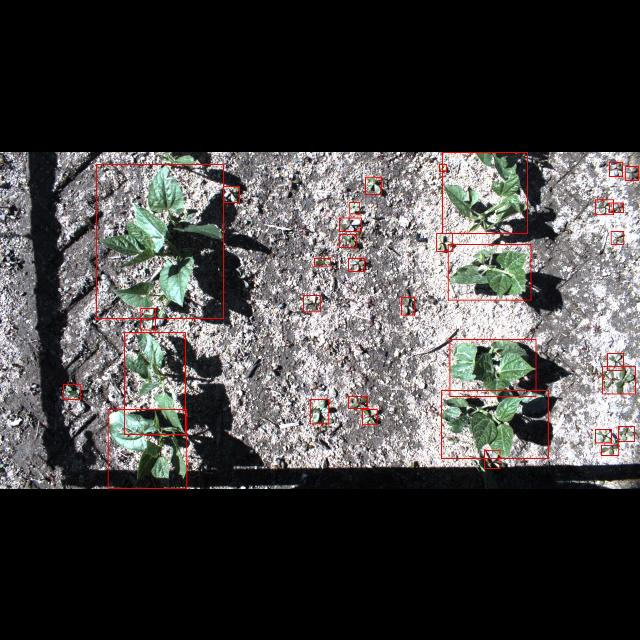crop: (96, 164, 224, 318), (442, 390, 548, 458), (442, 152, 528, 232), (124, 332, 186, 434), (108, 409, 186, 488), (450, 339, 536, 396), (448, 243, 530, 299)
weed: (602, 366, 636, 394), (310, 398, 328, 424), (140, 308, 156, 330), (338, 217, 362, 231), (436, 233, 452, 251), (365, 176, 381, 194), (484, 450, 500, 468), (607, 352, 623, 370), (595, 198, 613, 214), (304, 295, 320, 311), (224, 186, 240, 202), (362, 409, 378, 425), (618, 426, 634, 442), (348, 396, 368, 408), (64, 384, 80, 398), (595, 429, 611, 443), (402, 297, 414, 315), (601, 444, 619, 456), (625, 165, 639, 179), (340, 234, 356, 246), (348, 258, 364, 270), (610, 160, 622, 176), (610, 230, 624, 243), (609, 202, 623, 212), (314, 257, 330, 265), (350, 201, 360, 213), (439, 163, 446, 170)
